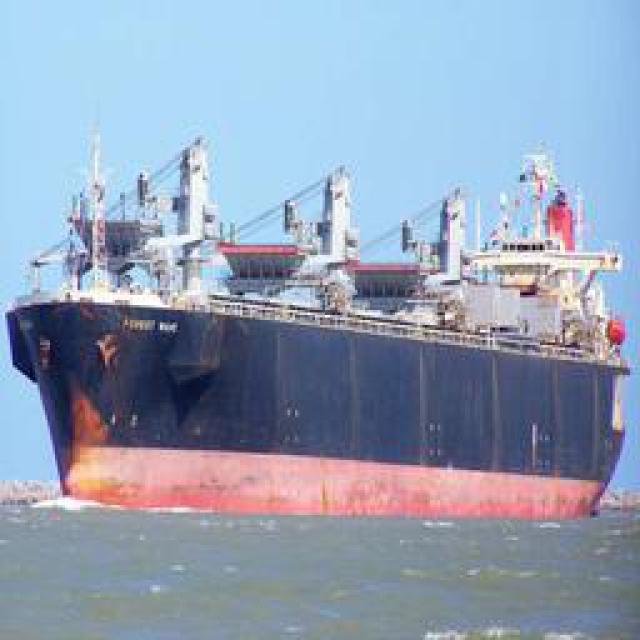Ship: (18, 147, 636, 535)
